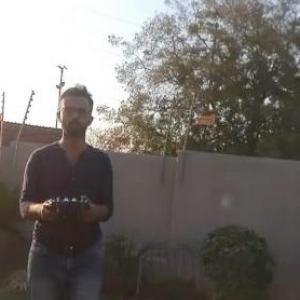follow: (13, 72, 116, 299)
